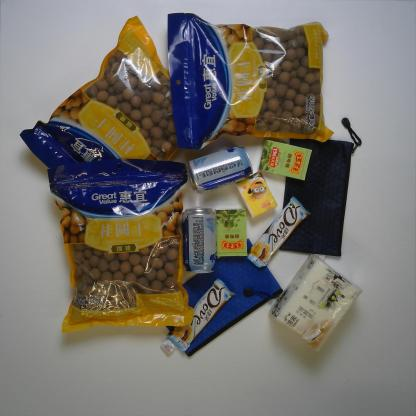Alcohol: (183, 144, 254, 196), (179, 206, 219, 277)
Candy: (256, 136, 312, 184), (215, 207, 249, 258)
Chocolate: (168, 279, 233, 353), (247, 196, 308, 269)
Dried Food: (17, 13, 205, 189), (44, 158, 194, 338), (164, 11, 334, 155)
Stationery: (162, 238, 284, 357), (275, 115, 361, 257)
Tissue: (267, 249, 363, 354), (233, 169, 279, 218)
